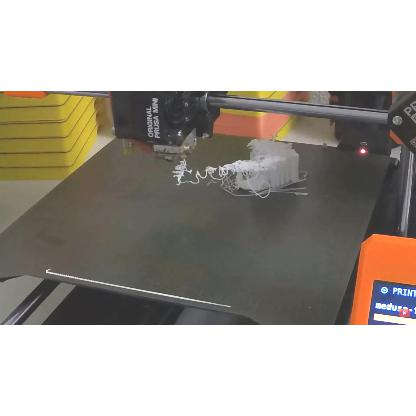fail: (172, 158, 258, 190)
